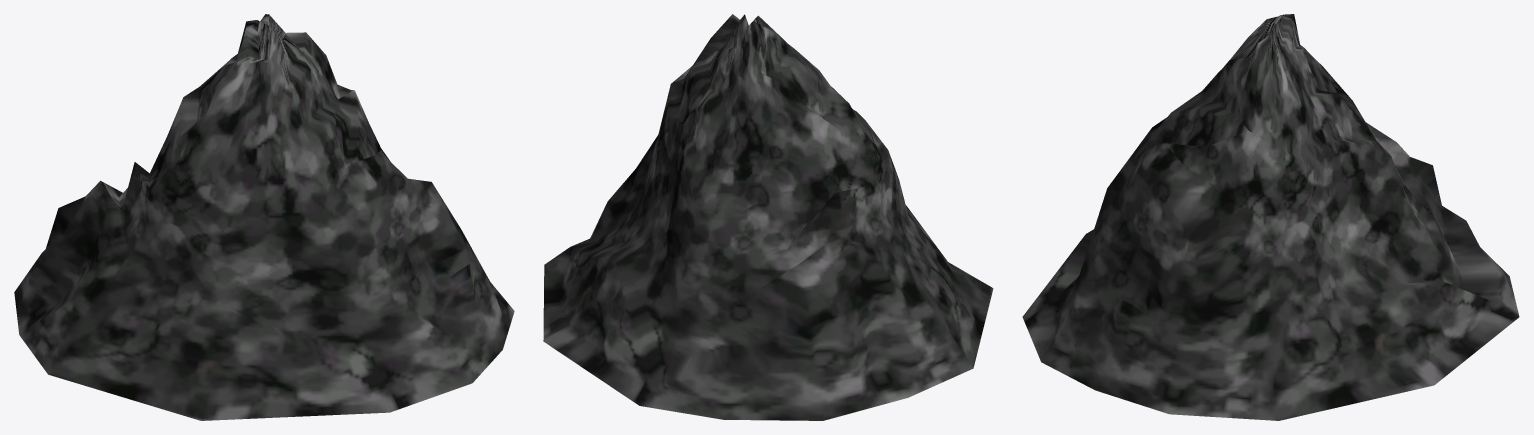
File: INST_SWORDLIGHT_OREC.fbx
3 renders of one model, left to right at view 1: azimuth 30°, elevation 25°; view 2: azimuth 150°, elevation 25°; view 3: azimuth 270°, elevation 25°, orthographic.
Parts seen in each view (by area): view 1: INST_SWORDLIGHT_OREC; view 2: INST_SWORDLIGHT_OREC; view 3: INST_SWORDLIGHT_OREC.
Part boxes in pixels (x1,y1,x2,y2): INST_SWORDLIGHT_OREC: (14, 14, 514, 420); INST_SWORDLIGHT_OREC: (543, 14, 993, 420); INST_SWORDLIGHT_OREC: (1022, 14, 1519, 420).
Bounding box in the file's own units: 20785 × 14105 × 20693.
1 material, 1 textured.
